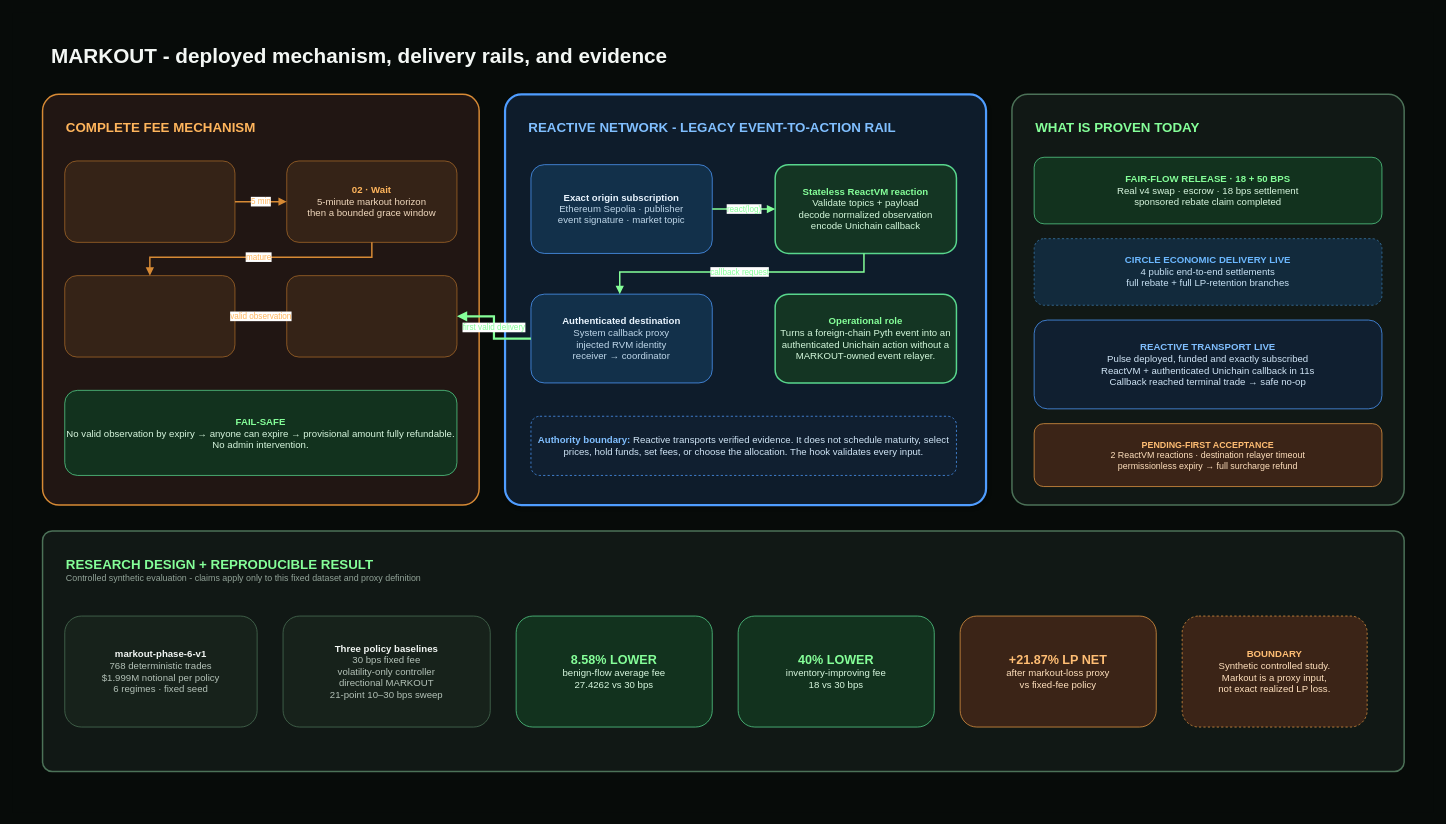
This 1446x824 diagram has some shape labels left out. The centre of each missing label's shape, as x and y in pixels:
"01 · Execute Real v4 swap at 18 bps base + 50 bps provisional amount" belongs at [149,201].
"03 · Observe Signed delayed price + confidence bound to marketId + tradeId" belongs at [149,316].
"04 · Allocate Directional markout → rebate or LP protection reserve" belongs at [371,316].
